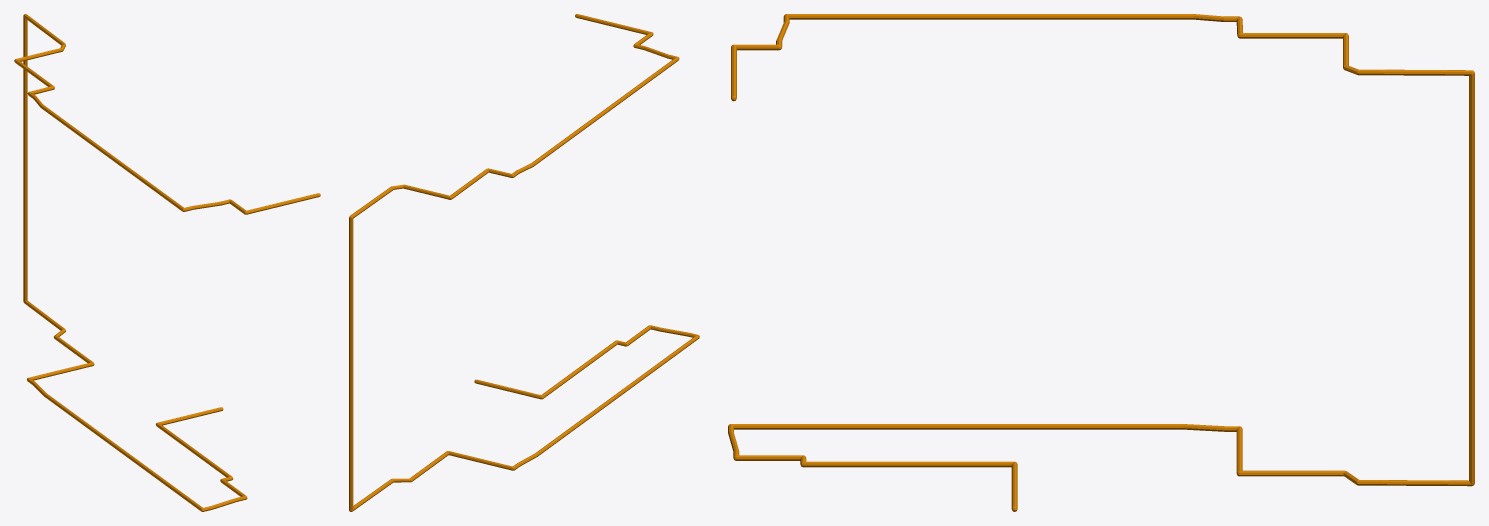
3 renders of one model, left to right at view 1: azimuth 30°, elevation 25°; view 2: azimuth 150°, elevation 25°; view 3: azimuth 270°, elevation 25°, orthographic. The views are drawn at different scales.
Bounding box in the file's own units: 666 × 1520 × 2475.
